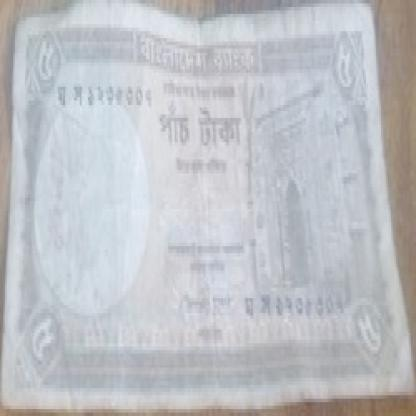Five Taka: (354, 302, 391, 367), (25, 309, 57, 382), (333, 31, 358, 101), (32, 20, 55, 86)
